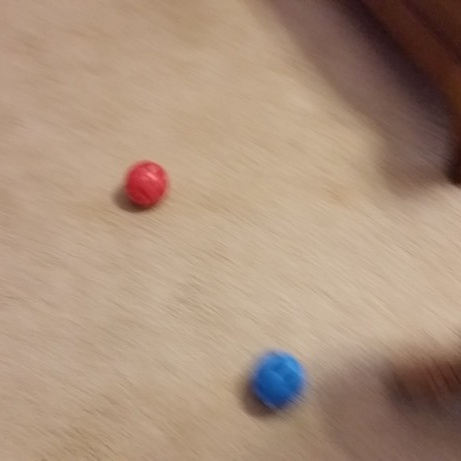blueball: (241, 345, 309, 417)
redball: (120, 160, 172, 212)
